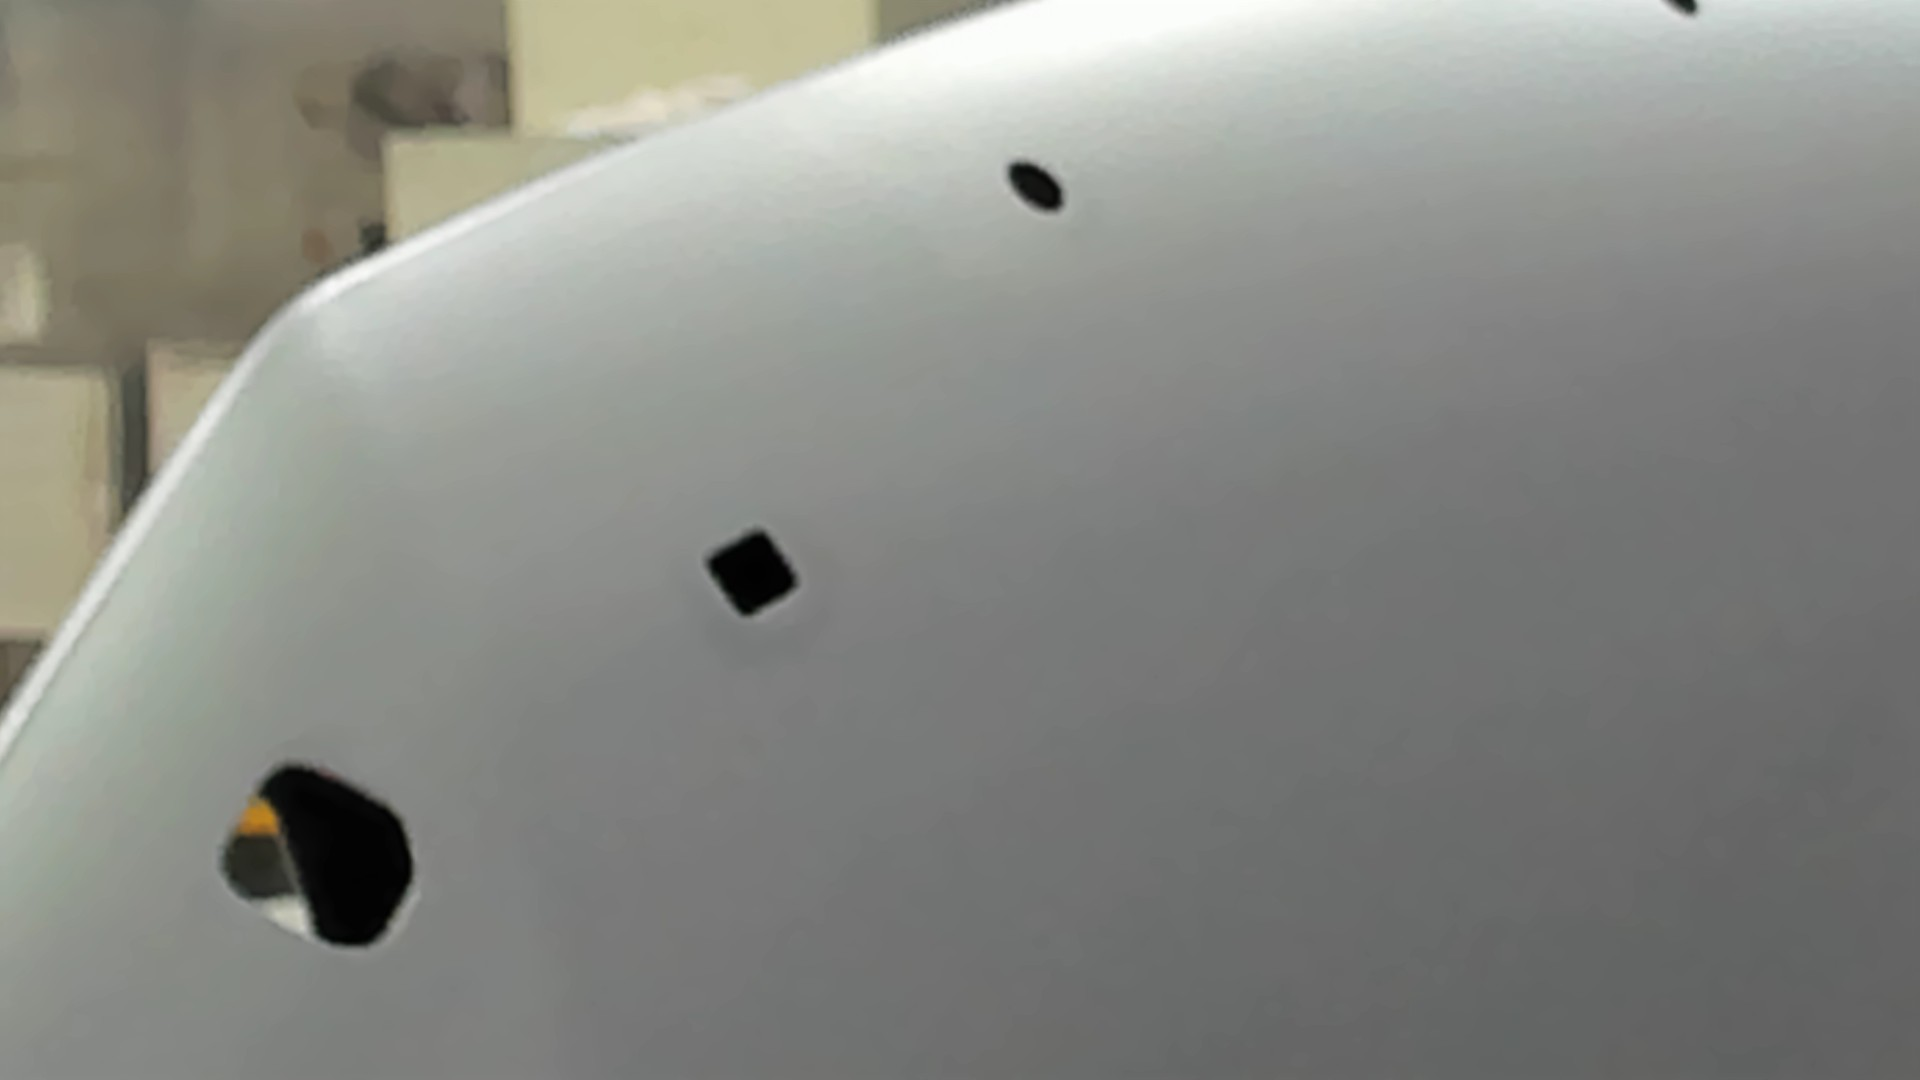chico: (1001, 158, 1071, 220), (1659, 1, 1702, 22)
grande: (215, 756, 423, 961)
mediano: (695, 520, 808, 626)
